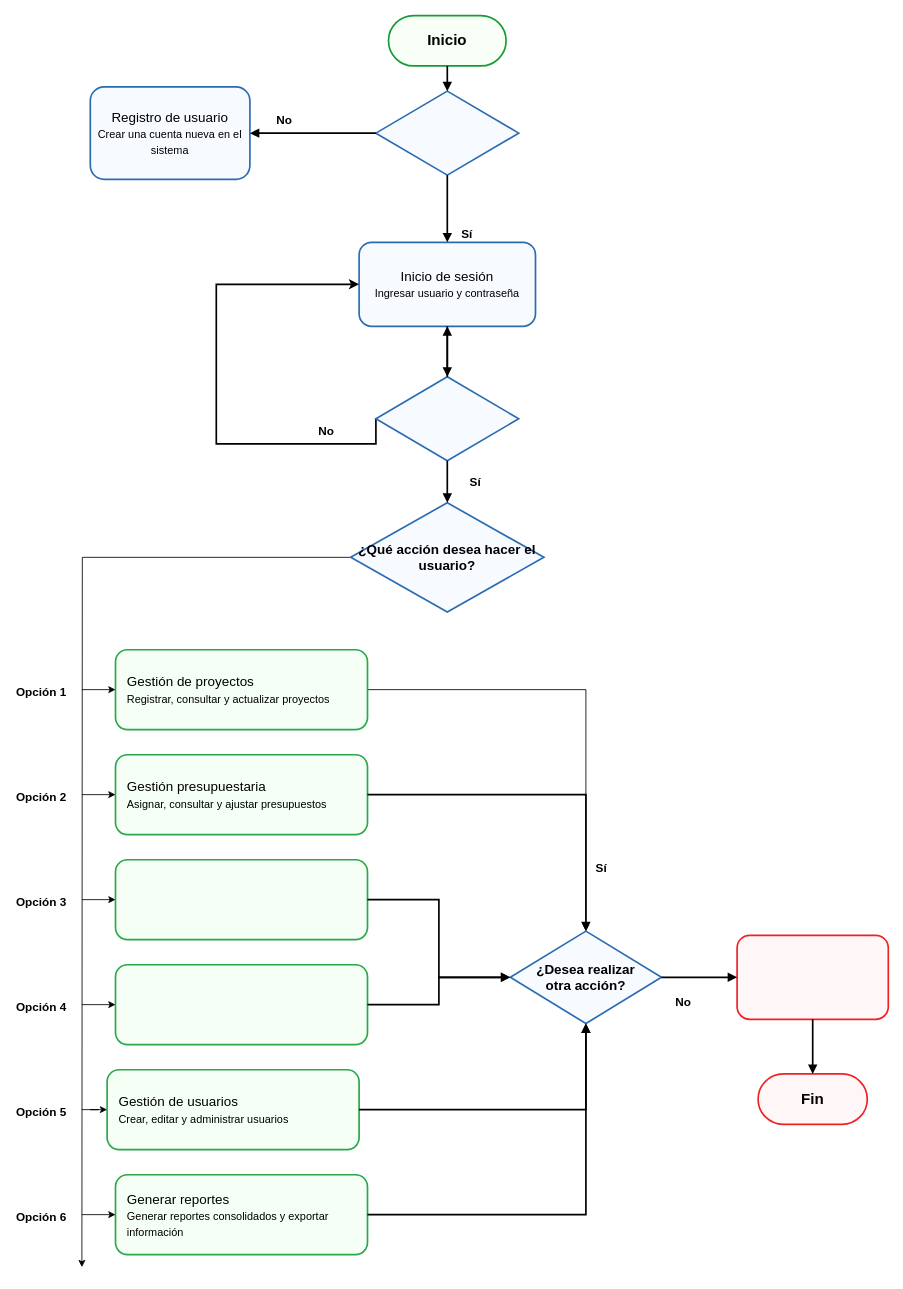
This 903x1289 diagram has some shape labels left out. The box of each missing label's shape, as (x1, y1, x2, y2) in pixels:
Cerrar sesión Salir del sistema de forma segura: (736, 934, 889, 1020)
Gestión de gastos Registrar gastos, comprobantes y documentos: (114, 963, 368, 1045)
Seguimiento de ejecución Registrar avances, actividades y porcentajes: (114, 858, 368, 940)
¿Credenciales correctas?: (375, 375, 519, 461)
¿Tiene un usuario?: (375, 90, 519, 176)
